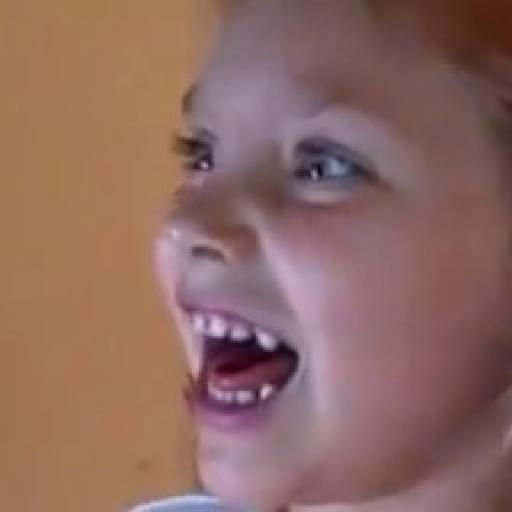Autism: (100, 0, 512, 512)
